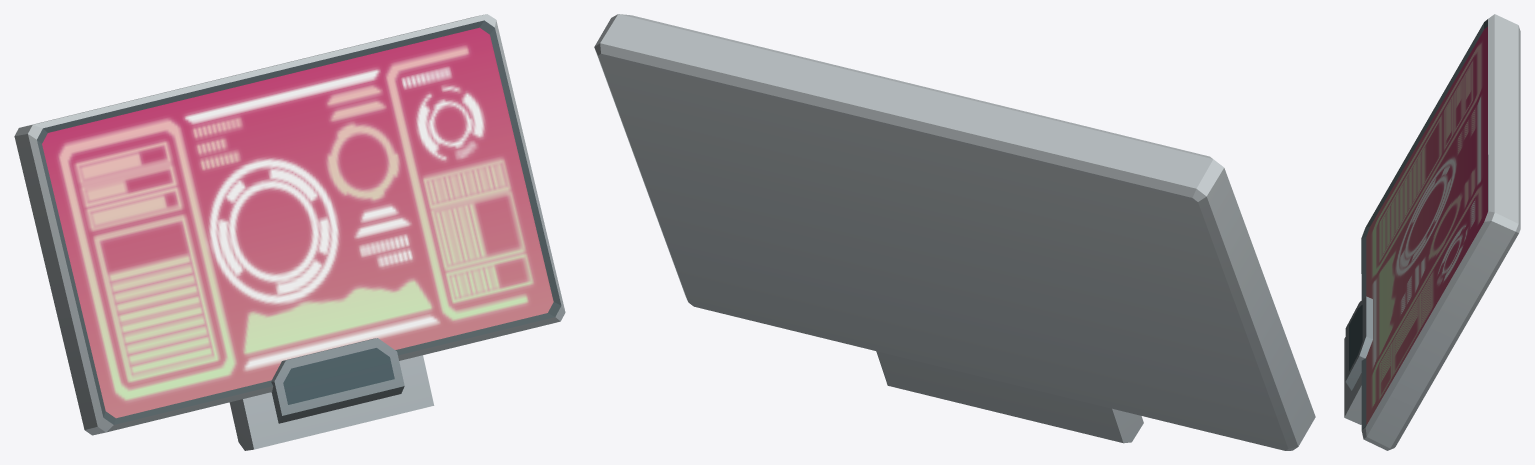
The model's file is Terminal_013_monitor_001.fbx.
3 views of the same model, side by side, from view 1: azimuth 30°, elevation 25°; view 2: azimuth 150°, elevation 25°; view 3: azimuth 270°, elevation 25° (orthographic). The views are drawn at different scales.
Parts seen in each view (by area): view 1: Terminal_013_monitor_001; view 2: Terminal_013_monitor_001; view 3: Terminal_013_monitor_001.
Part boxes in pixels (x1,y1,x2,y2): Terminal_013_monitor_001: [14, 14, 565, 450]; Terminal_013_monitor_001: [594, 14, 1315, 450]; Terminal_013_monitor_001: [1344, 14, 1520, 450].
Size of the model in its own units: 142 by 51.64 by 87.97.
